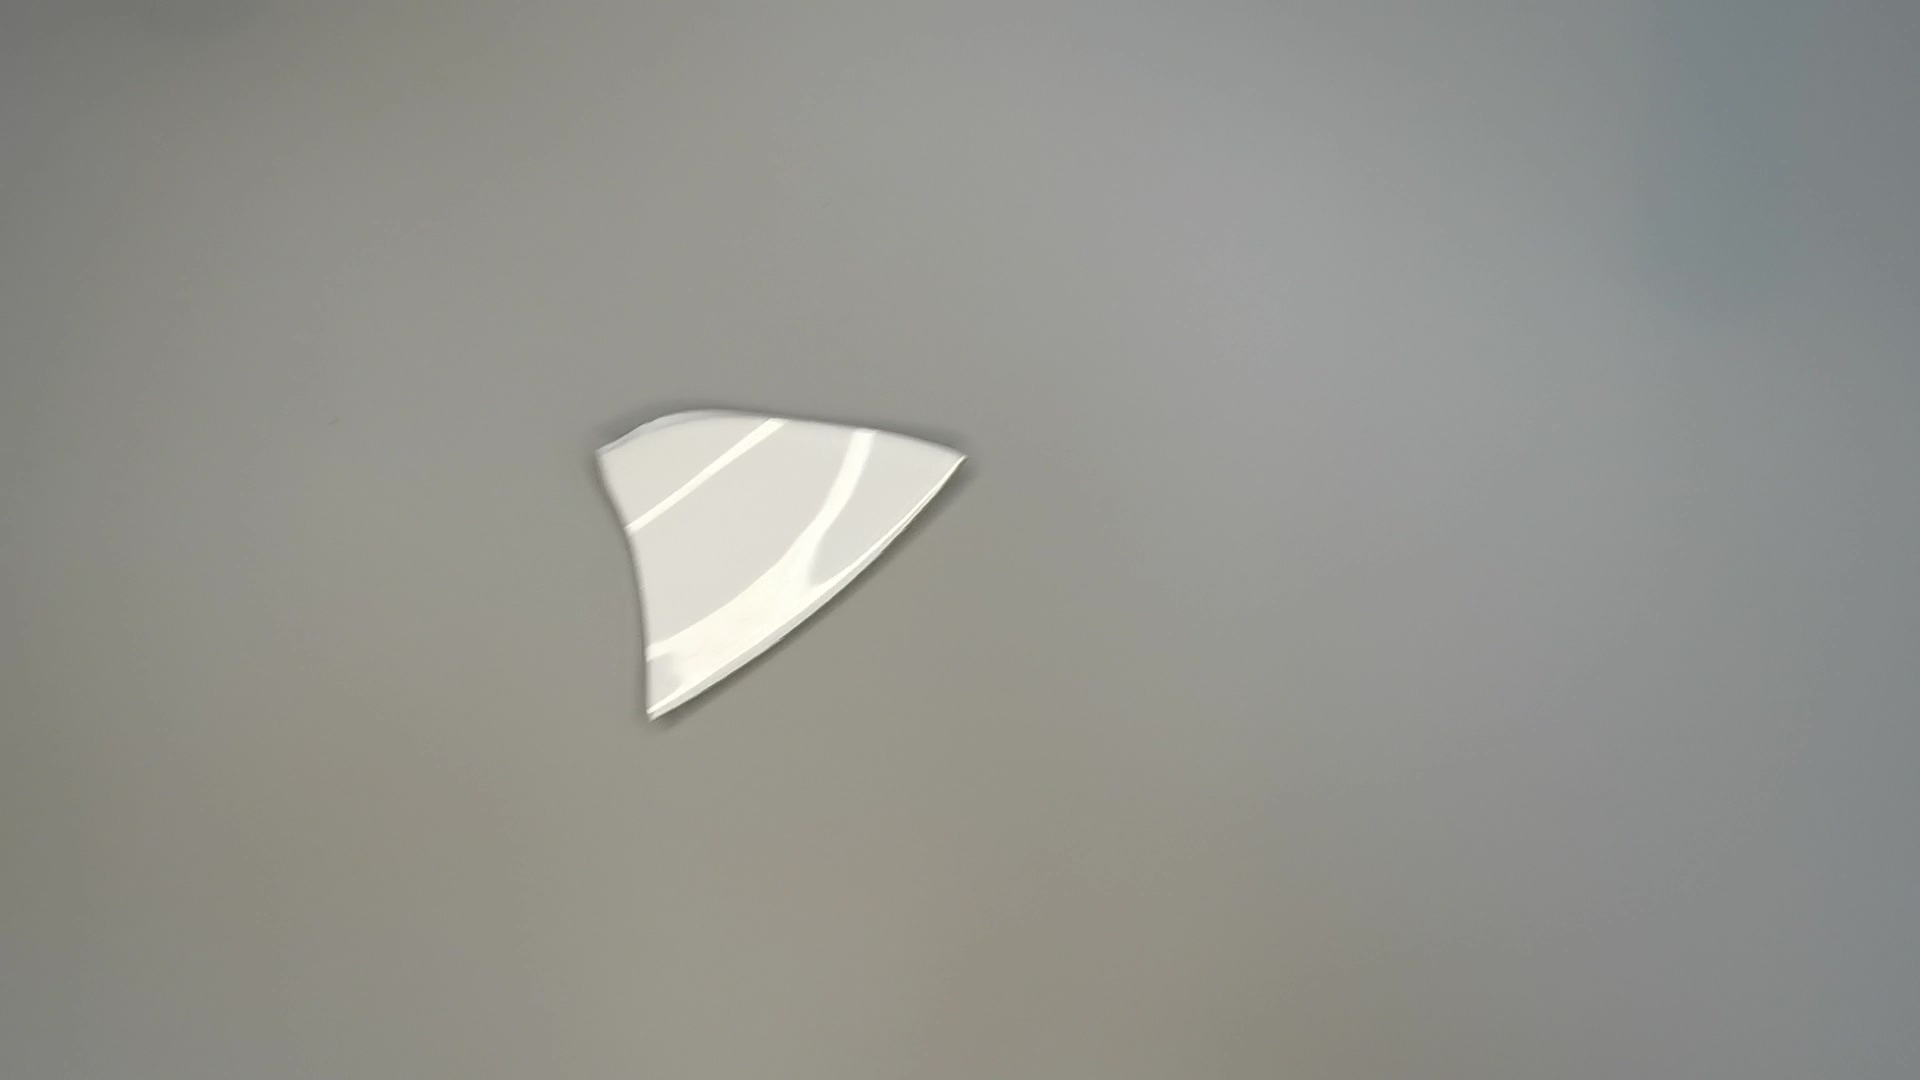ceramic: (584, 398, 984, 731)
